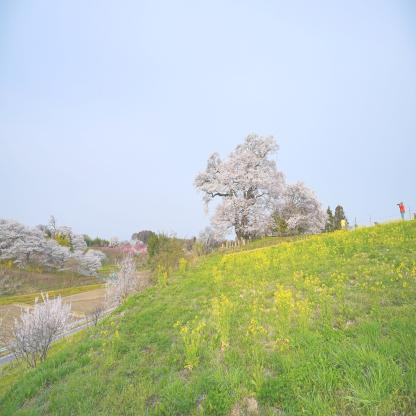EdohiganSakura: (193, 131, 330, 243)
